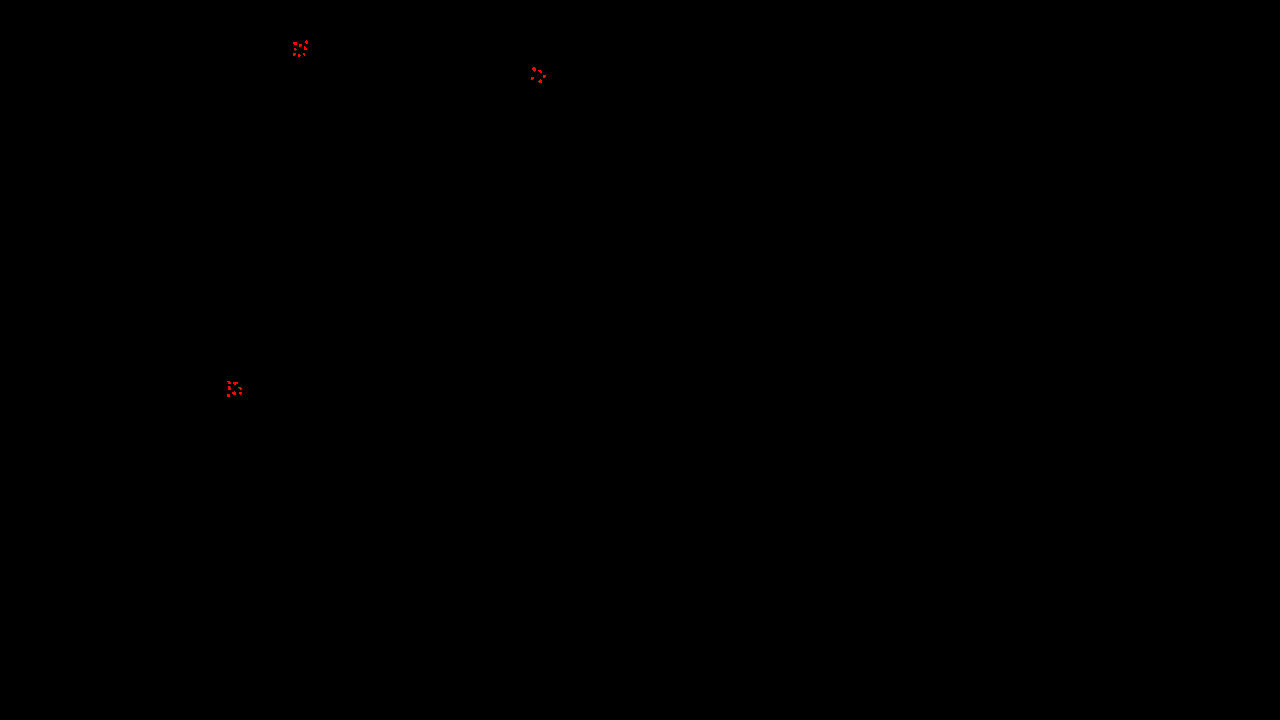Target: (532, 67, 536, 72), (538, 79, 542, 83), (232, 391, 236, 395), (233, 382, 238, 385), (305, 40, 308, 44), (293, 42, 297, 45), (304, 46, 307, 50), (538, 70, 542, 73), (227, 381, 231, 384), (228, 386, 231, 390), (238, 387, 242, 390), (299, 44, 302, 47), (294, 48, 297, 51), (293, 53, 296, 56), (298, 54, 301, 57), (543, 75, 546, 78), (531, 77, 534, 80), (239, 392, 242, 395), (227, 394, 230, 397), (303, 53, 305, 56)
